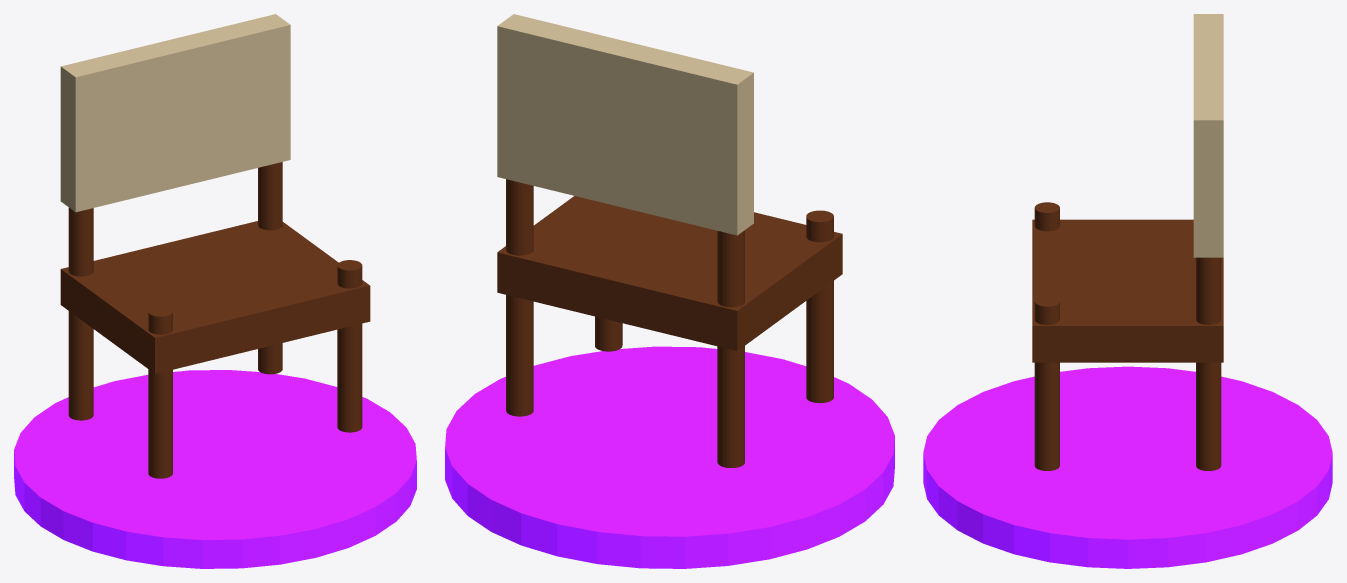
The model's file is modelling_director_chair.dae.
The picture shows the model from 3 angles, left to right: view 1: azimuth 30°, elevation 25°; view 2: azimuth 150°, elevation 25°; view 3: azimuth 270°, elevation 25°; orthographic projection. The views are drawn at different scales.
Visible parts, largest first — view 1: 05_03_Popular_Modelling_Director_Chair_ROOT_base, 05_03_Popular_Modelling_Director_Chair_part_02, 05_03_Popular_Modelling_Director_Chair_part_01, 05_03_Popular_Modelling_Director_Chair_part_03, 05_03_Popular_Modelling_Director_Chair_part_06, 05_03_Popular_Modelling_Director_Chair_part_05, 05_03_Popular_Modelling_Director_Chair_part_04; view 2: 05_03_Popular_Modelling_Director_Chair_ROOT_base, 05_03_Popular_Modelling_Director_Chair_part_02, 05_03_Popular_Modelling_Director_Chair_part_01, 05_03_Popular_Modelling_Director_Chair_part_03, 05_03_Popular_Modelling_Director_Chair_part_04, 05_03_Popular_Modelling_Director_Chair_part_05, 05_03_Popular_Modelling_Director_Chair_part_06; view 3: 05_03_Popular_Modelling_Director_Chair_ROOT_base, 05_03_Popular_Modelling_Director_Chair_part_01, 05_03_Popular_Modelling_Director_Chair_part_02, 05_03_Popular_Modelling_Director_Chair_part_04, 05_03_Popular_Modelling_Director_Chair_part_06, 05_03_Popular_Modelling_Director_Chair_part_05.
Boxes of the visible parts, x1,y1,x2,y2 form: 05_03_Popular_Modelling_Director_Chair_ROOT_base: [14, 370, 416, 568]; 05_03_Popular_Modelling_Director_Chair_part_02: [60, 14, 290, 212]; 05_03_Popular_Modelling_Director_Chair_part_01: [60, 221, 370, 373]; 05_03_Popular_Modelling_Director_Chair_part_03: [68, 207, 93, 420]; 05_03_Popular_Modelling_Director_Chair_part_06: [337, 260, 362, 432]; 05_03_Popular_Modelling_Director_Chair_part_05: [148, 306, 172, 478]; 05_03_Popular_Modelling_Director_Chair_part_04: [258, 162, 282, 374]; 05_03_Popular_Modelling_Director_Chair_ROOT_base: [445, 346, 894, 568]; 05_03_Popular_Modelling_Director_Chair_part_02: [497, 14, 753, 235]; 05_03_Popular_Modelling_Director_Chair_part_01: [497, 196, 842, 351]; 05_03_Popular_Modelling_Director_Chair_part_03: [717, 230, 744, 467]; 05_03_Popular_Modelling_Director_Chair_part_04: [506, 179, 533, 416]; 05_03_Popular_Modelling_Director_Chair_part_05: [806, 210, 833, 403]; 05_03_Popular_Modelling_Director_Chair_part_06: [595, 316, 622, 351]; 05_03_Popular_Modelling_Director_Chair_ROOT_base: [923, 366, 1332, 568]; 05_03_Popular_Modelling_Director_Chair_part_01: [1032, 219, 1223, 362]; 05_03_Popular_Modelling_Director_Chair_part_02: [1193, 14, 1223, 257]; 05_03_Popular_Modelling_Director_Chair_part_04: [1196, 257, 1221, 470]; 05_03_Popular_Modelling_Director_Chair_part_06: [1034, 296, 1059, 470]; 05_03_Popular_Modelling_Director_Chair_part_05: [1034, 202, 1059, 231].
Size of the model in its own units: 0.76 by 0.85 by 0.76.
